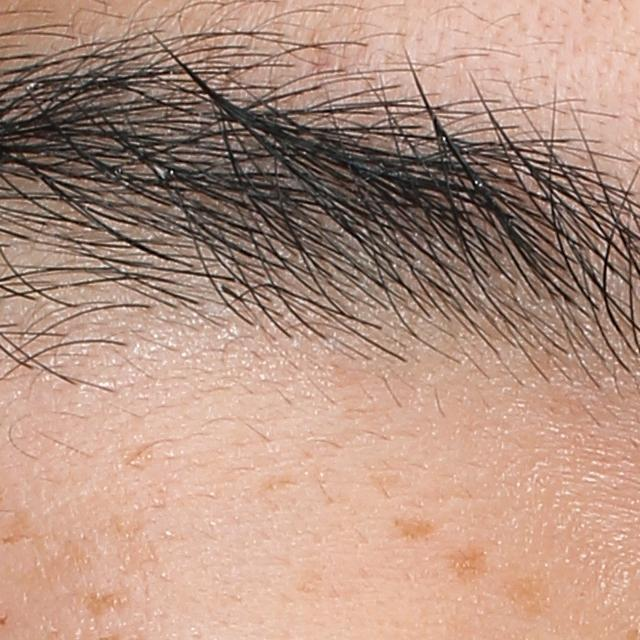melasma: (390, 512, 438, 544), (84, 585, 131, 616), (448, 548, 495, 578)
